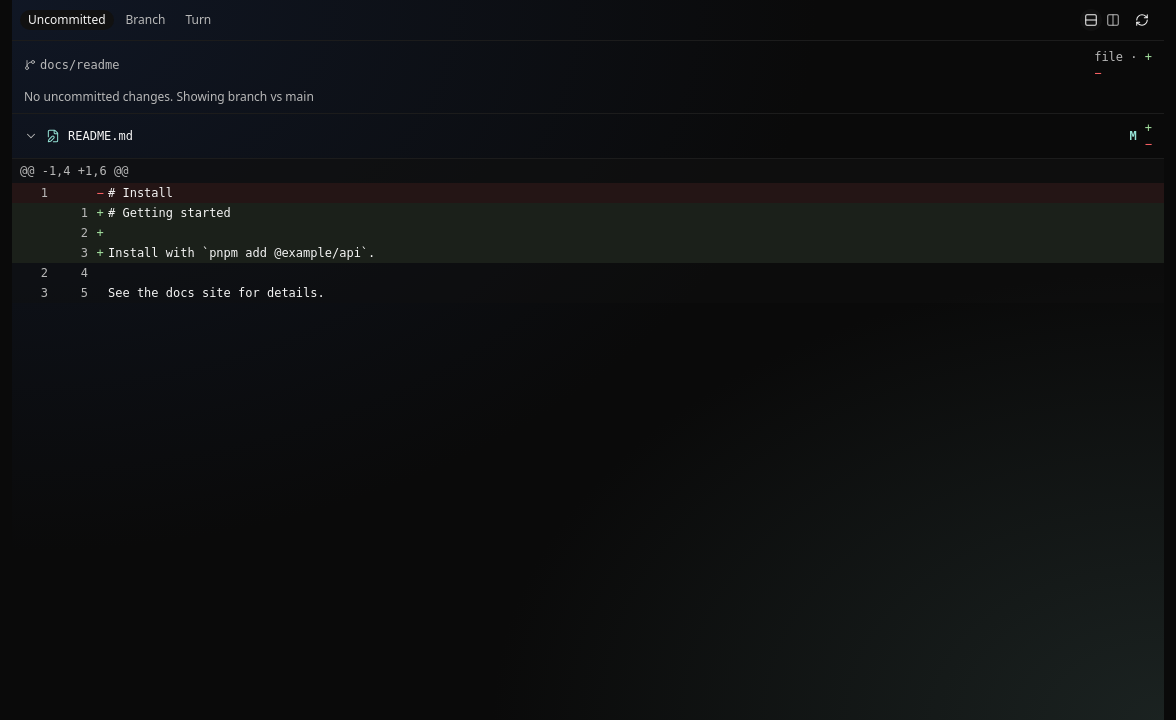
DiffPanel › unmounts a collapsed file's patch
Expected: the element with test id "patch" is shown, [12,159,1164,303]
Click the button "README.md M + −". click: click(101, 136)
box: [12,114,1164,158]
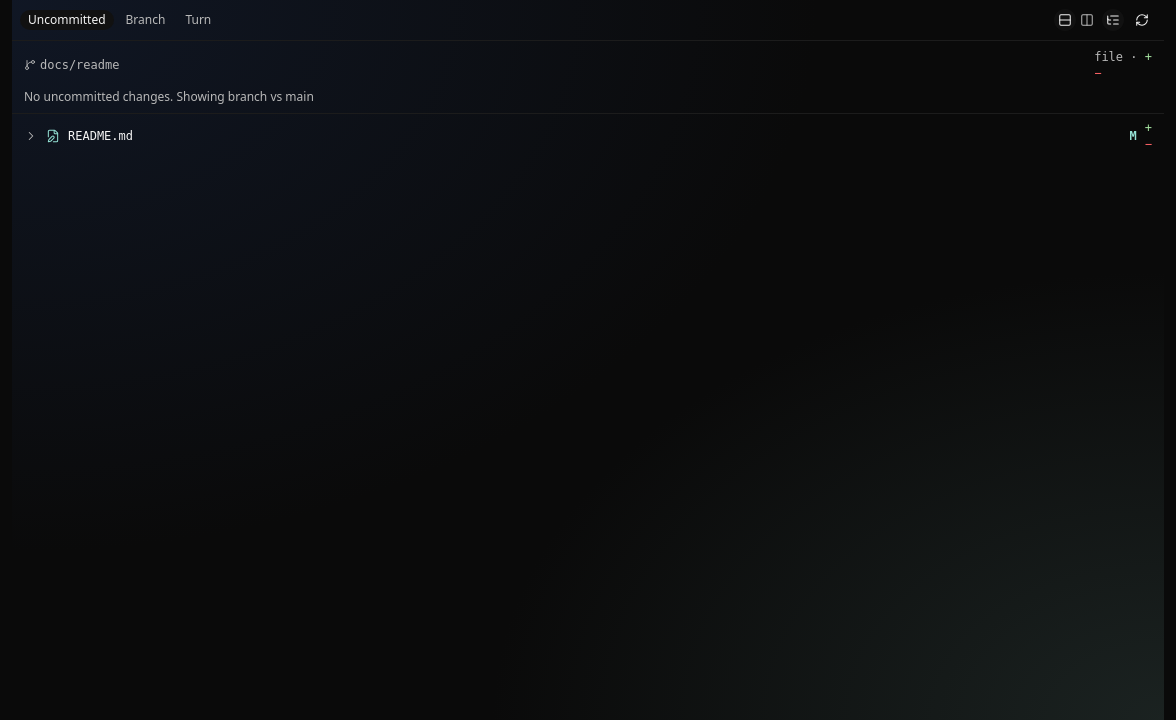
Expected: the element with test id "patch" is gone
